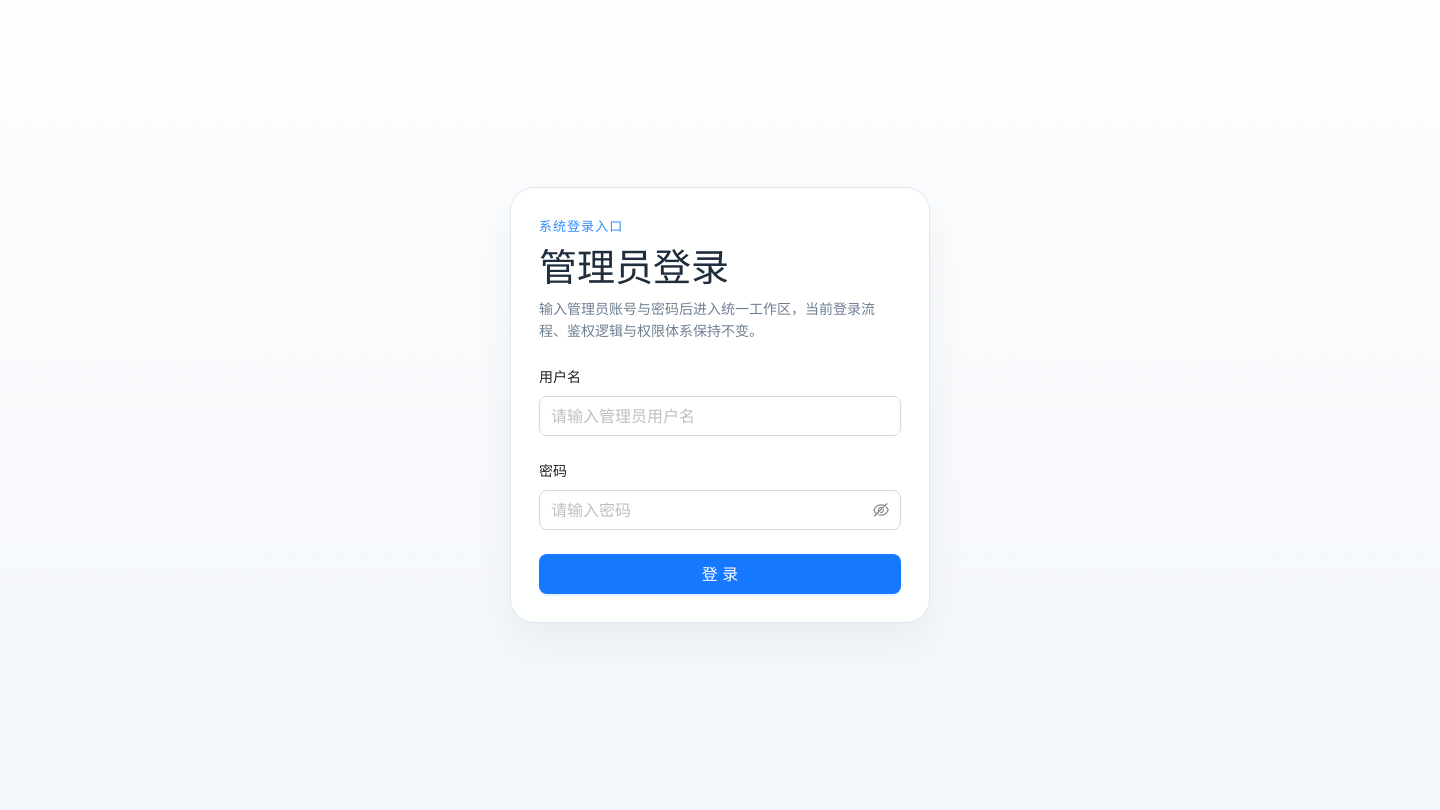
Test: App › stores token and enters dashboard after successful login
Type "admin" into the field labelled "用户名" at (720, 416), box [539,396,901,436]
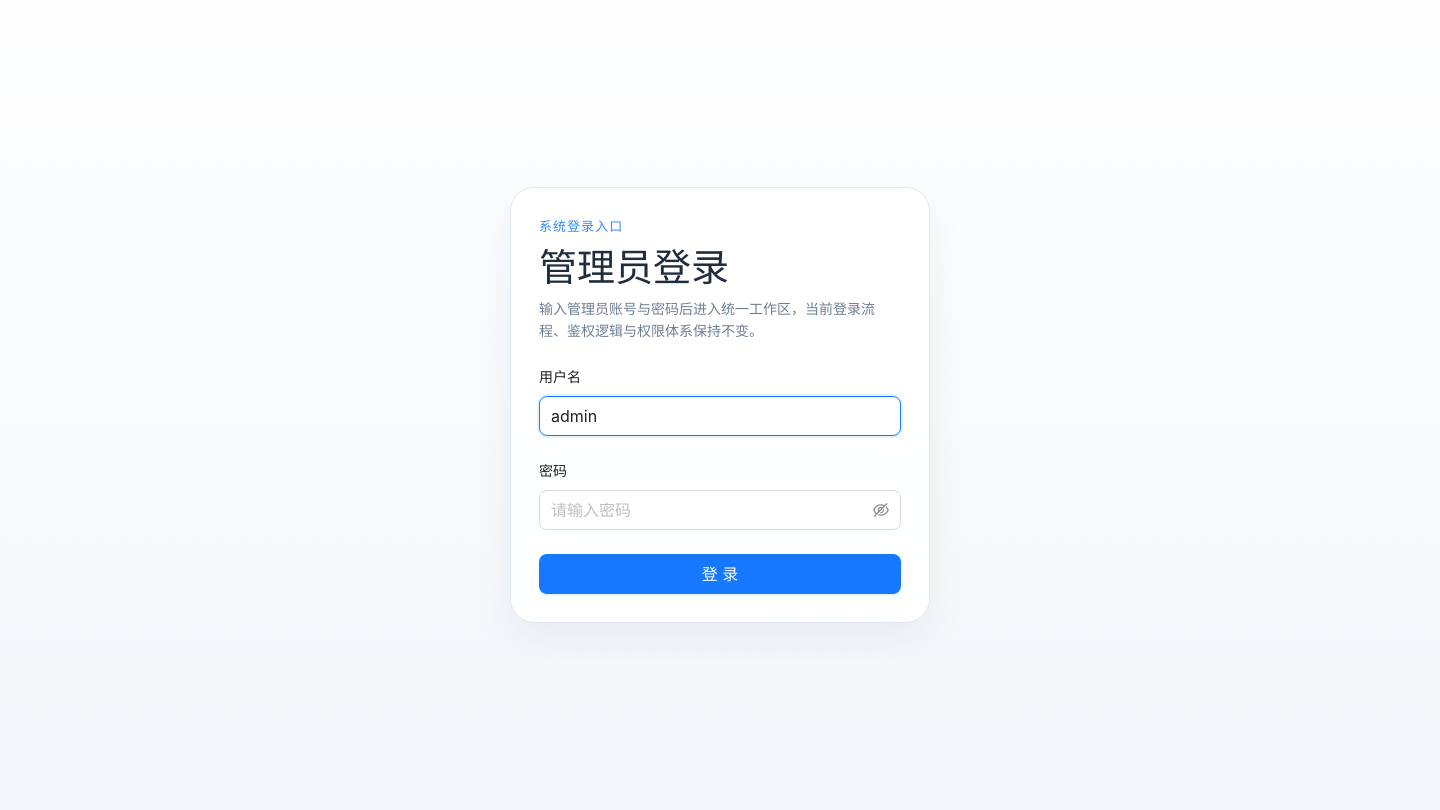
Type "Admin@123456" into the password field labelled "密码" at (710, 510), box [551,498,869,522]
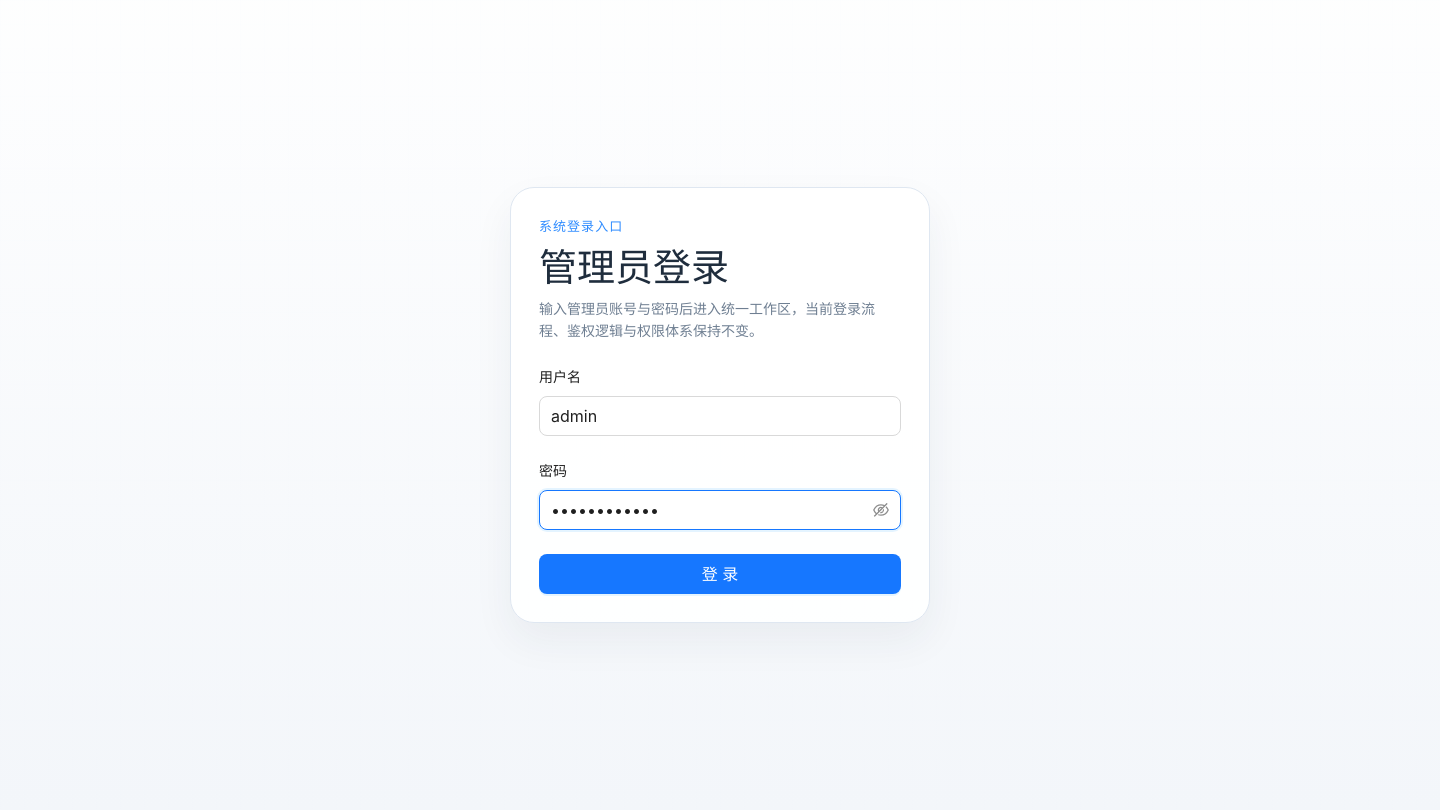
Click the button named "登录" at (720, 574), box [539,554,901,594]
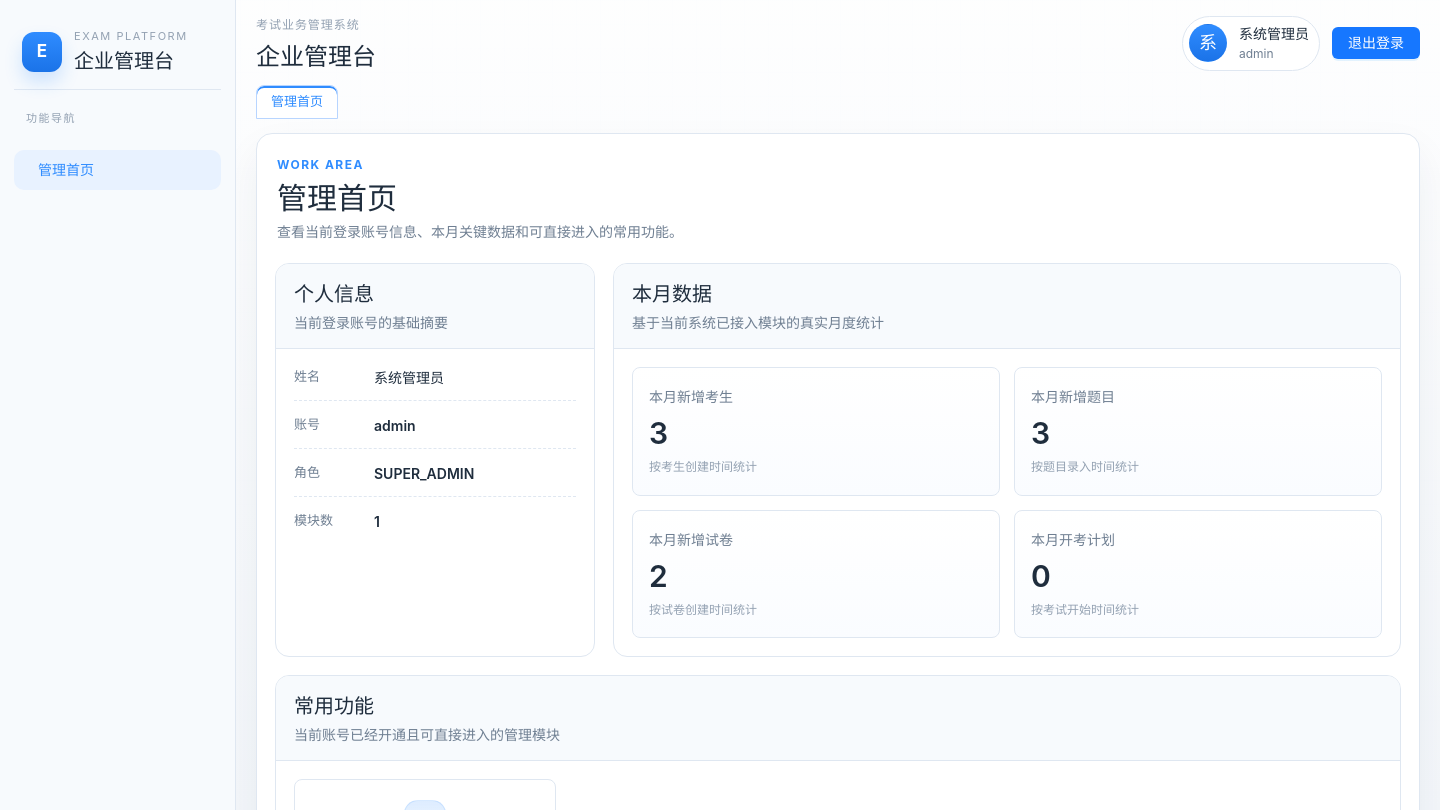
Expected: the heading "管理首页" is shown, [277,180,397,216]
Expected: the text "系统管理员" is shown 2 times, [1239,23,1309,45]; [374,369,444,386]
